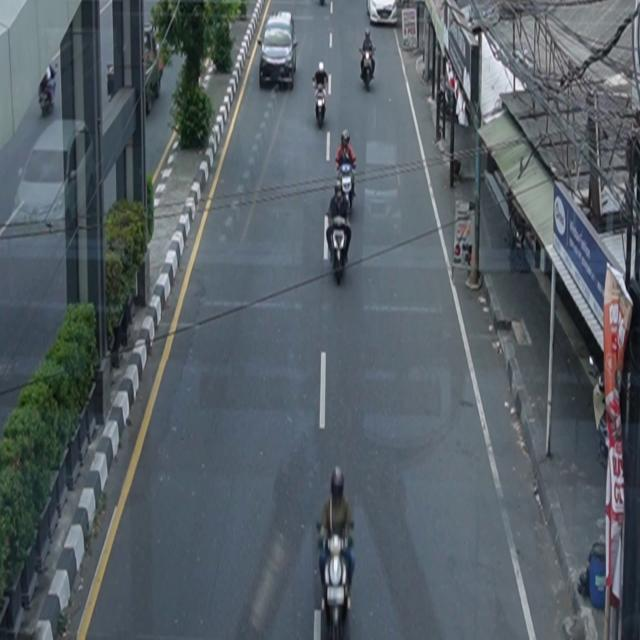car: (259, 11, 299, 91), (367, 1, 399, 27)
